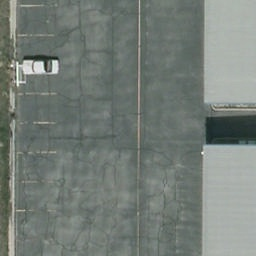car: (18, 59, 60, 75)
